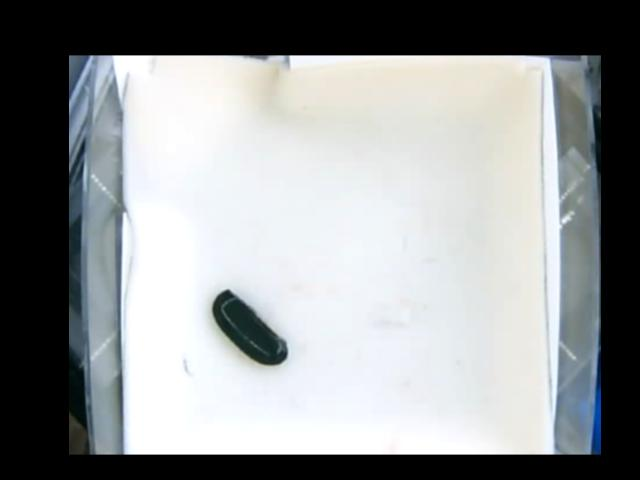Pebble: (210, 287, 289, 363)
